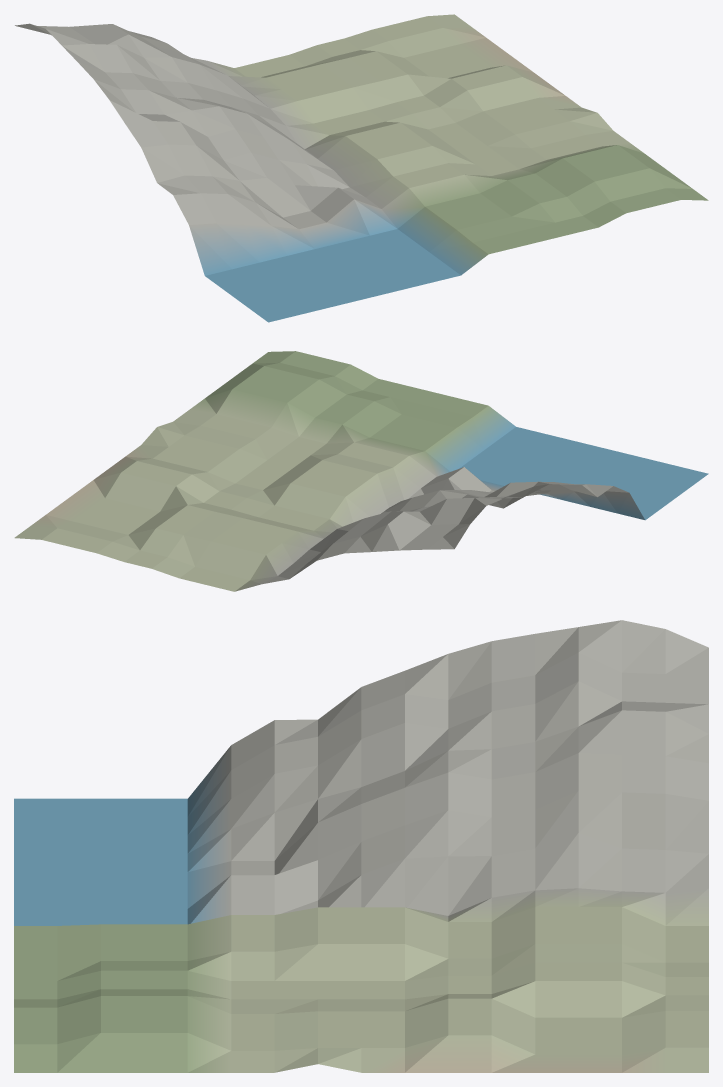
3 renders of one model, top to bottom at view 1: azimuth 30°, elevation 25°; view 2: azimuth 150°, elevation 25°; view 3: azimuth 270°, elevation 25°, orthographic. The views are drawn at different scales.
Size of the model in its own units: 32 by 9.08 by 32.
